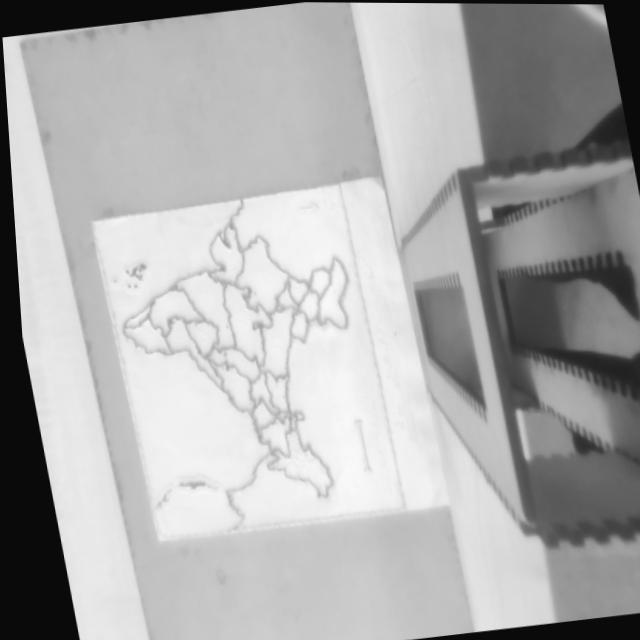map: (90, 171, 406, 561)
